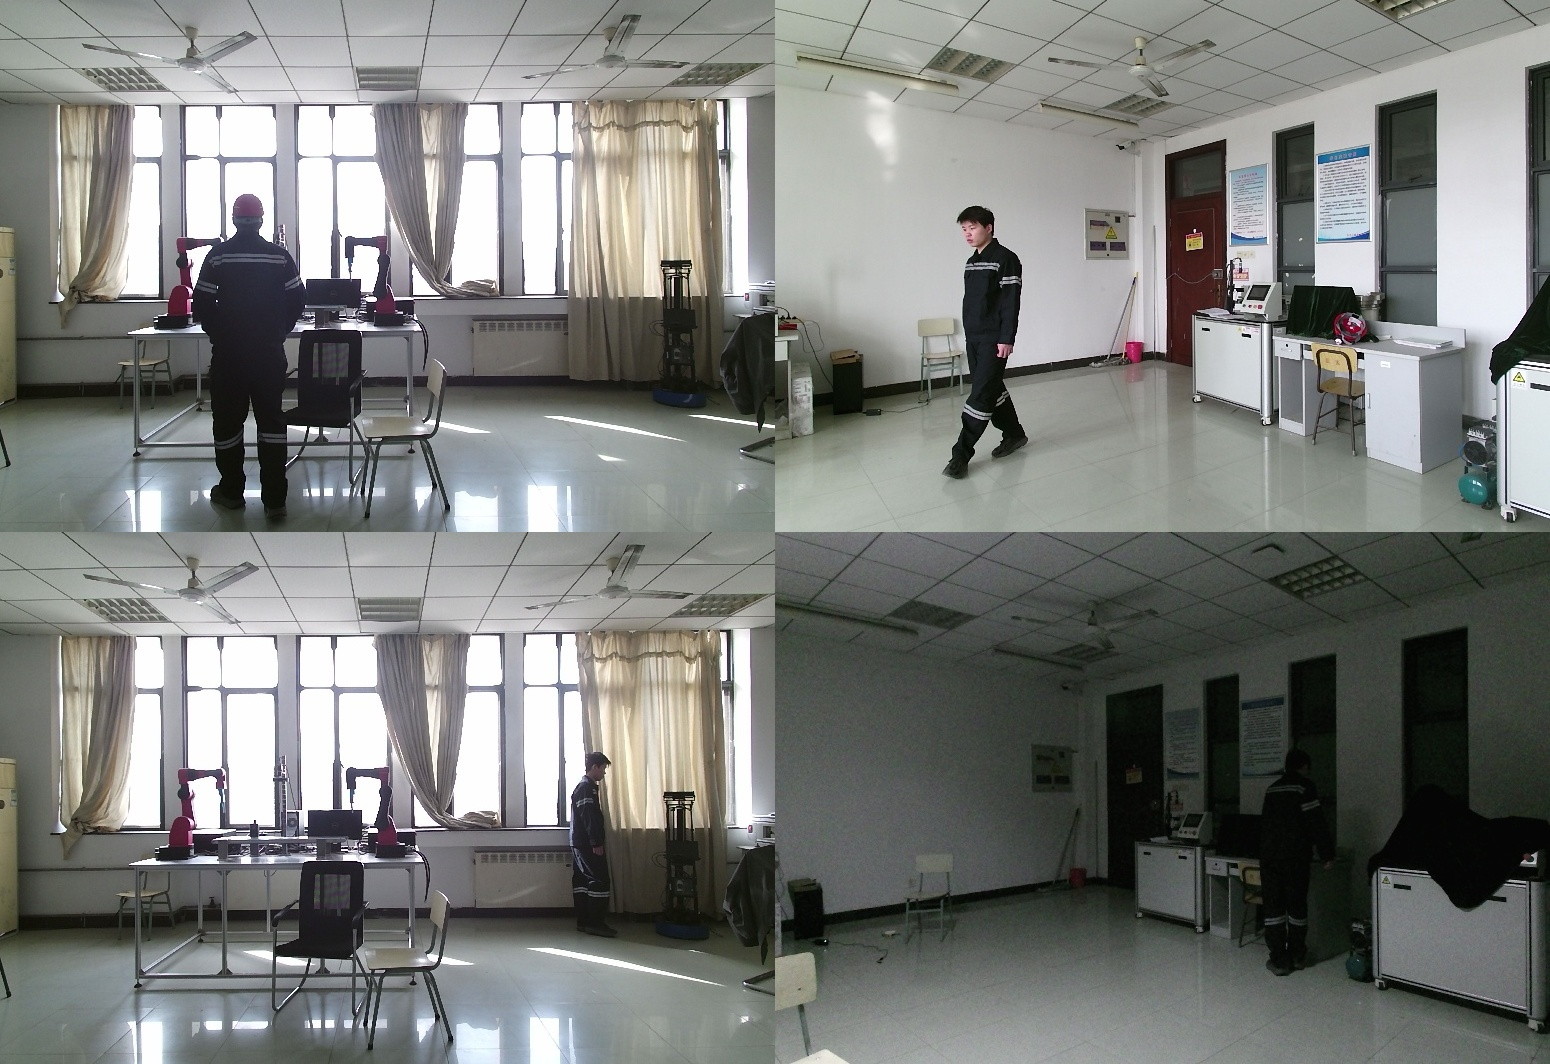person: (190, 194, 310, 523), (943, 207, 1035, 477), (1259, 748, 1341, 974), (571, 753, 636, 942)
